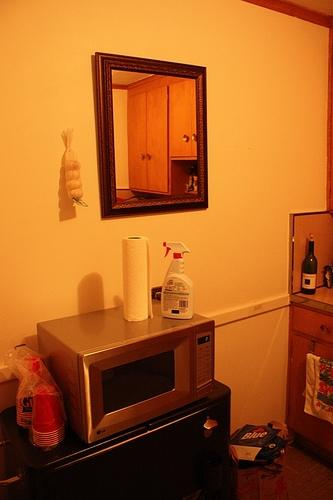garlic: (64, 160, 82, 170), (69, 188, 83, 200), (66, 180, 82, 190), (66, 169, 80, 180)
